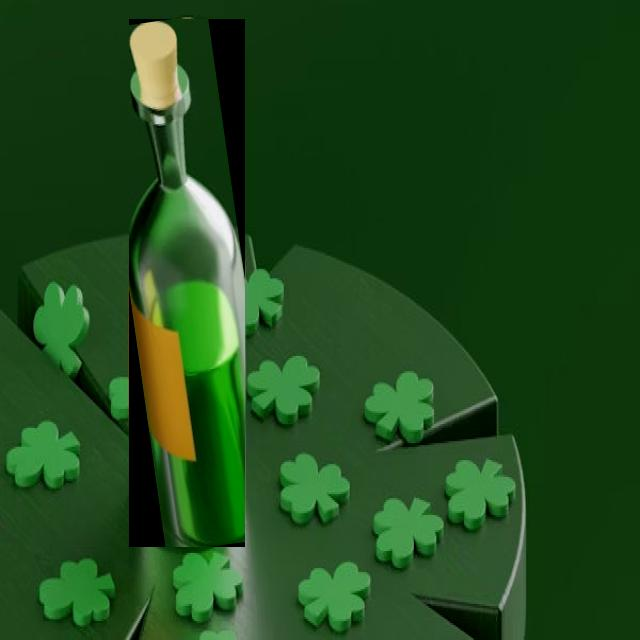Bottle: (130, 19, 245, 547)
